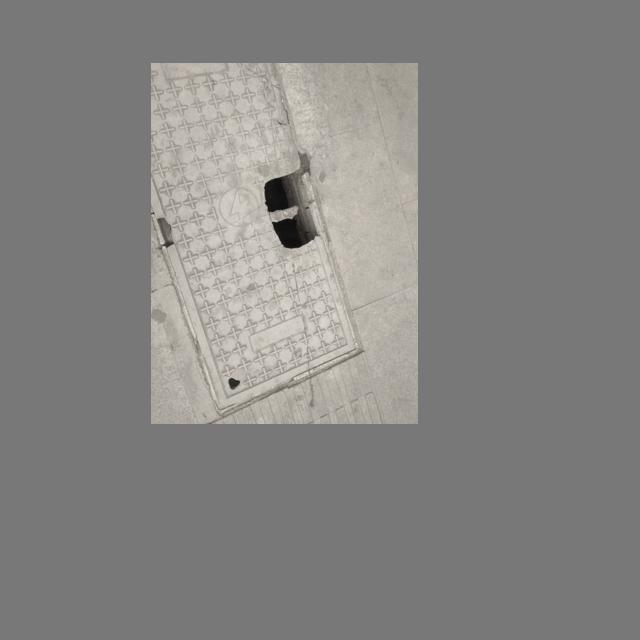broke: (156, 76, 381, 392)
